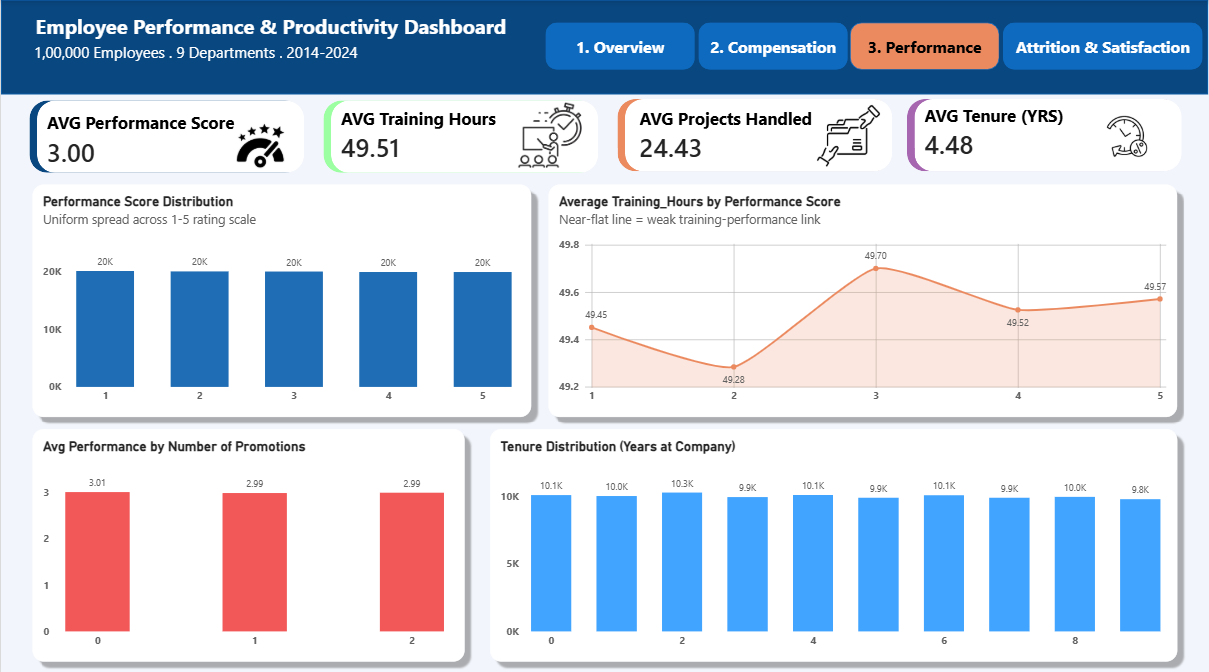

Layout of this report page (visuals, bound fields, positions):
{"tool":"powerbi","page":{"name":"Page 3","canvas":[1920,1080],"ordinal":2},"visuals":[{"type":"shape","box":[0,0,1920,150],"z":0},{"type":"shape","box":[45.7,159.6,435,115],"z":0,"group":"g1"},{"type":"textbox","box":[55,20,920,70],"z":1000},{"type":"shape","box":[58.2,159.6,425,115],"z":1000,"group":"g1"},{"type":"textbox","box":[52.5,67.5,827.5,80],"z":2000},{"type":"shape","box":[512.6,160,435,115],"z":2000,"group":"g1"},{"type":"shape","box":[866.2,35,237.5,75],"z":3000},{"type":"shape","box":[525.1,160,425,115],"z":3000,"group":"g1"},{"type":"shape","box":[1108.8,35,237.5,75],"z":4000},{"type":"shape","box":[980.2,158.2,435,115],"z":4000,"group":"g1"},{"type":"shape","box":[1351.2,35,237.5,75],"z":5000},{"type":"shape","box":[993.2,157.9,425,115],"z":5000,"group":"g1"},{"type":"shape","box":[1593.8,35,317.5,75],"z":6000},{"type":"shape","box":[1442.1,157.9,435,115],"z":6000,"group":"g1"},{"type":"group","id":"g1","title":"Group 1","box":[45.7,157.9,1833.9,117.1],"z":7000},{"type":"shape","box":[1454.6,157.9,425,115],"z":7000,"group":"g1"},{"type":"columnChart","title":"Performance Score Distribution","fields":{"Y":["CountNonNull(Extended_Employee_Performance_and_Productivity_Data.Employee_ID)"],"Category":["Extended_Employee_Performance_and_Productivity_Data.Performance_Score"]},"box":[50,293.3,793.3,370],"z":8000},{"type":"lineChart","title":"Average Training_Hours by Performance Score","fields":{"Y":["Avg(Extended_Employee_Performance_and_Productivity_Data.Training_Hours)"],"Category":["Extended_Employee_Performance_and_Productivity_Data.Performance_Score"]},"box":[870,293.3,1000,370],"z":9000},{"type":"columnChart","title":"Avg Performance by Number of Promotions","fields":{"Y":["Avg(Extended_Employee_Performance_and_Productivity_Data.Performance_Score)"],"Category":["Extended_Employee_Performance_and_Productivity_Data.Promotions"]},"box":[50,682.5,687.5,370],"z":10000},{"type":"columnChart","title":"Tenure Distribution (Years at Company)","fields":{"Y":["CountNonNull(Extended_Employee_Performance_and_Productivity_Data.Employee_ID)"],"Category":["Extended_Employee_Performance_and_Productivity_Data.Years_At_Company (bins)"]},"box":[776.7,683.3,1093.3,370],"z":11000},{"type":"cardVisual","fields":{"Data":["Extended_Employee_Performance_and_Productivity_Data.Average Performance Score"]},"box":[57.5,147.5,410,150],"z":12000},{"type":"cardVisual","fields":{"Data":["Extended_Employee_Performance_and_Productivity_Data.AVG Training Hours"]},"box":[525,140,410,150],"z":13000},{"type":"cardVisual","fields":{"Data":["Extended_Employee_Performance_and_Productivity_Data.AVG Projects Handled"]},"box":[1000,140,410,150],"z":14000},{"type":"image","box":[762.5,150,217.5,130],"z":15000},{"type":"image","box":[310,185,205,112.5],"z":16000},{"type":"image","box":[1245,157.5,205,112.5],"z":17000},{"type":"cardVisual","fields":{"Data":["Extended_Employee_Performance_and_Productivity_Data.AVG Tenure (YRS)"]},"box":[1453.8,136.8,365,150],"z":18000},{"type":"image","box":[1724,180,132,76],"z":19000}]}

Visuals, with their boxes in screenshot pixels (x1, y1, x2, y2), scaled from the page's 1920x1080 canvas onto the 1209x672 screenshot:
shape: box=[0, 0, 1208, 93]
shape: box=[29, 99, 303, 171]
textbox: box=[35, 12, 614, 56]
shape: box=[37, 99, 304, 171]
textbox: box=[33, 42, 554, 92]
shape: box=[323, 100, 597, 171]
shape: box=[545, 22, 695, 68]
shape: box=[331, 100, 598, 171]
shape: box=[698, 22, 848, 68]
shape: box=[617, 98, 891, 170]
shape: box=[851, 22, 1000, 68]
shape: box=[625, 98, 893, 170]
shape: box=[1004, 22, 1204, 68]
shape: box=[908, 98, 1182, 170]
"Group 1" group: box=[29, 98, 1184, 171]
shape: box=[916, 98, 1184, 170]
"Performance Score Distribution" columnChart: box=[31, 182, 531, 413]
"Average Training_Hours by Performance Score" lineChart: box=[548, 182, 1178, 413]
"Avg Performance by Number of Promotions" columnChart: box=[31, 425, 464, 655]
"Tenure Distribution (Years at Company)" columnChart: box=[489, 425, 1178, 655]
cardVisual - Extended_Employee_Performance_and_Productivity_Data.Average Performance Score: box=[36, 92, 294, 185]
cardVisual - Extended_Employee_Performance_and_Productivity_Data.AVG Training Hours: box=[331, 87, 589, 180]
cardVisual - Extended_Employee_Performance_and_Productivity_Data.AVG Projects Handled: box=[630, 87, 888, 180]
image: box=[480, 93, 617, 174]
image: box=[195, 115, 324, 185]
image: box=[784, 98, 913, 168]
cardVisual - Extended_Employee_Performance_and_Productivity_Data.AVG Tenure (YRS): box=[915, 85, 1145, 178]
image: box=[1086, 112, 1169, 159]
